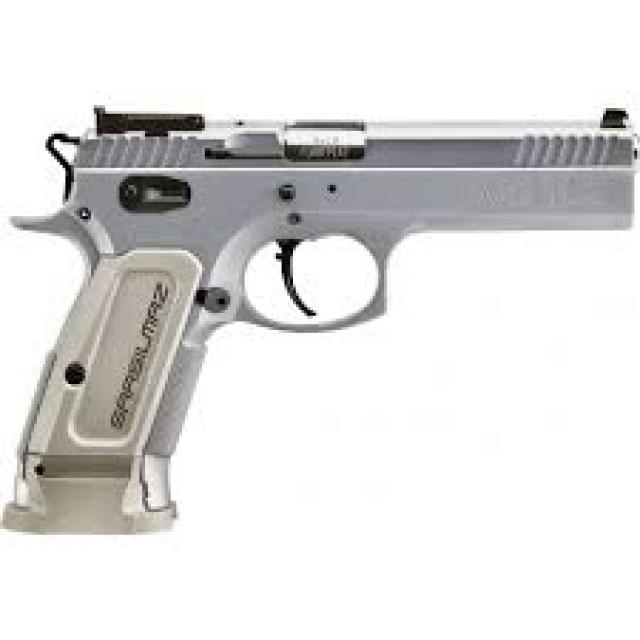pistol: (1, 93, 640, 554)
